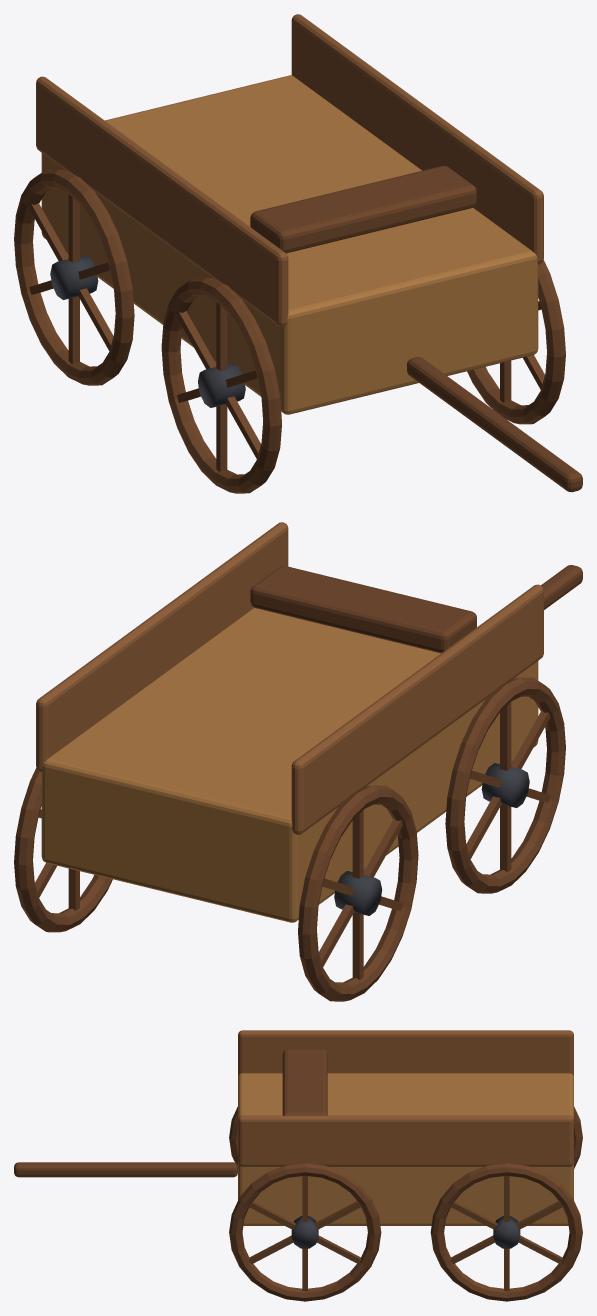
Rendered from wagon.glb.
3 views of the same model, one above another, from view 1: azimuth 30°, elevation 25°; view 2: azimuth 150°, elevation 25°; view 3: azimuth 270°, elevation 25° (orthographic). The views are drawn at different scales.
Visible parts, largest first — view 1: body, wheelBR, wheelFR, wheelFL; view 2: body, wheelBR, wheelFR, wheelBL; view 3: body, wheelFL, wheelBL, wheelBR, wheelFR.
Boxes of the visible parts, x1=… form: body: x1=36, y1=14, x2=582, y2=492; wheelBR: x1=14, y1=169, x2=134, y2=385; wheelFR: x1=161, y1=277, x2=281, y2=493; wheelFL: x1=467, y1=260, x2=565, y2=424; body: x1=36, y1=522, x2=582, y2=922; wheelBR: x1=298, y1=785, x2=418, y2=1001; wheelFR: x1=445, y1=677, x2=565, y2=893; wheelBL: x1=14, y1=768, x2=112, y2=932; body: x1=14, y1=1030, x2=573, y2=1225; wheelFL: x1=229, y1=1163, x2=381, y2=1301; wheelBL: x1=430, y1=1163, x2=582, y2=1301; wheelBR: x1=574, y1=1106, x2=582, y2=1168; wheelFR: x1=229, y1=1106, x2=237, y2=1165.
Size of the model in its own units: 2.2 by 1.78 by 5.08.
